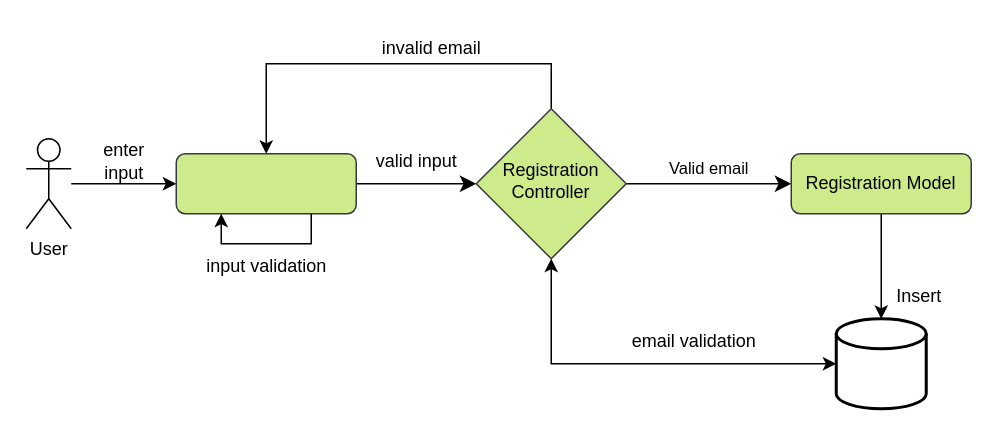
Some shapes in this 998 by 435 pixel diagram are drawn without their labels. Each missing label, with the centre of its shape:
Database: the point at 880,363
Registration View: the point at 265,183
